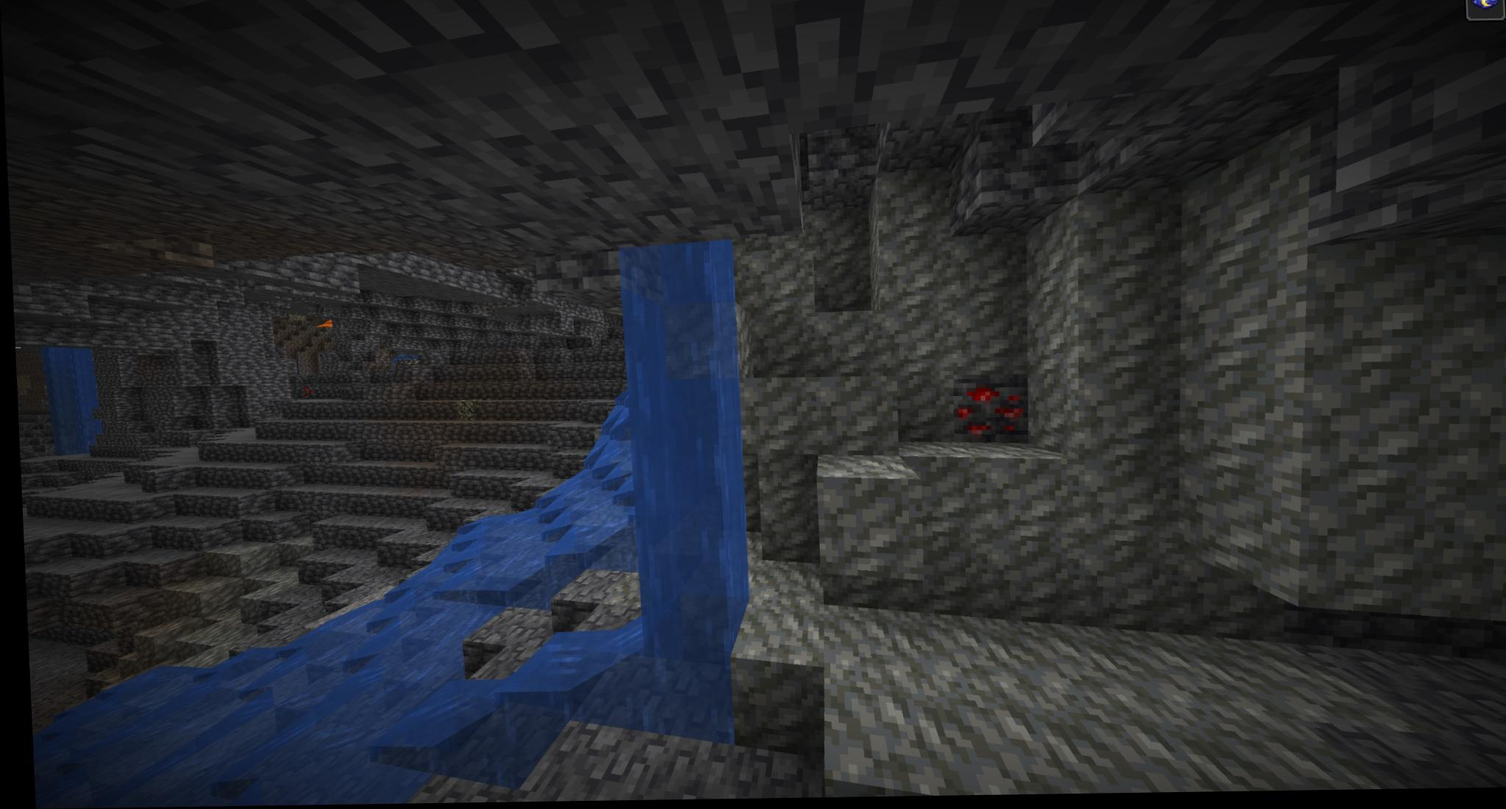redstone ore: (950, 377, 1020, 438)
